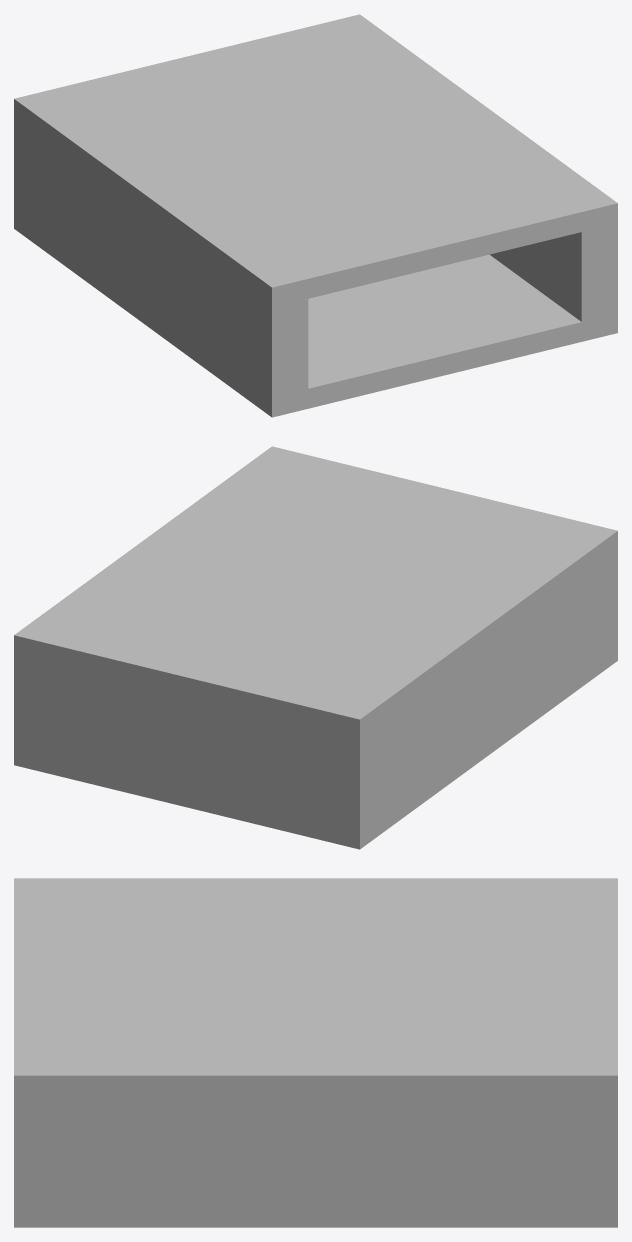
File: Itr_Desk_Drawer_Top_06.FBX
The picture shows the model from 3 angles, top to bottom: view 1: azimuth 30°, elevation 25°; view 2: azimuth 150°, elevation 25°; view 3: azimuth 270°, elevation 25°; orthographic projection. The views are drawn at different scales.
Visible parts, largest first — view 1: Itr_Desk_Drawer_Top_06; view 2: Itr_Desk_Drawer_Top_06; view 3: Itr_Desk_Drawer_Top_06.
Part boxes in pixels (x1,y1,x2,y2): Itr_Desk_Drawer_Top_06: (14, 14, 617, 417); Itr_Desk_Drawer_Top_06: (14, 446, 617, 849); Itr_Desk_Drawer_Top_06: (14, 878, 617, 1227).
Bounding box in the file's own units: 18.22 × 6.54 × 23.55.
